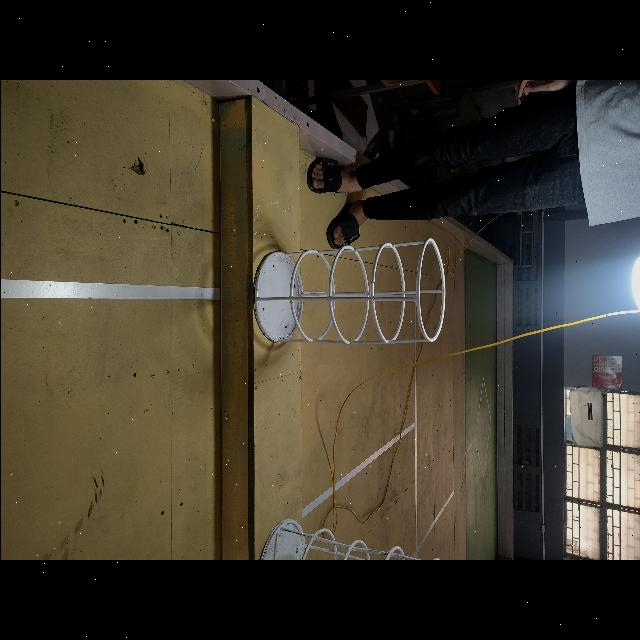S: (253, 237, 447, 347), (254, 516, 443, 560)
